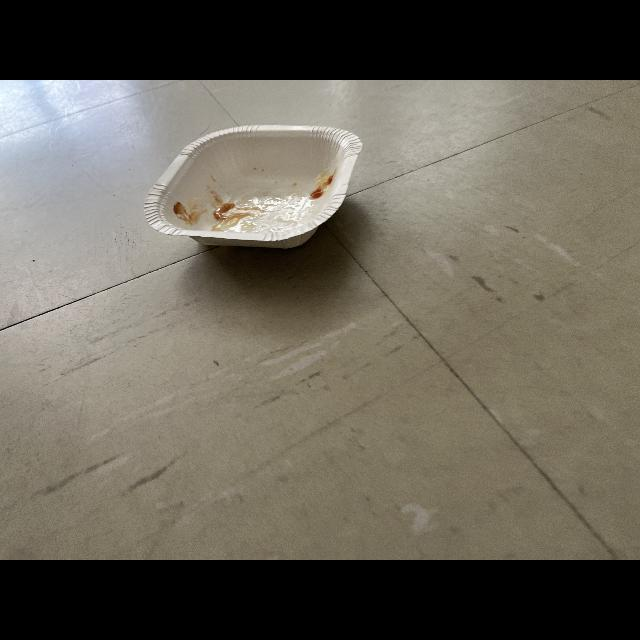cardboard_bowl: (146, 109, 366, 261)
